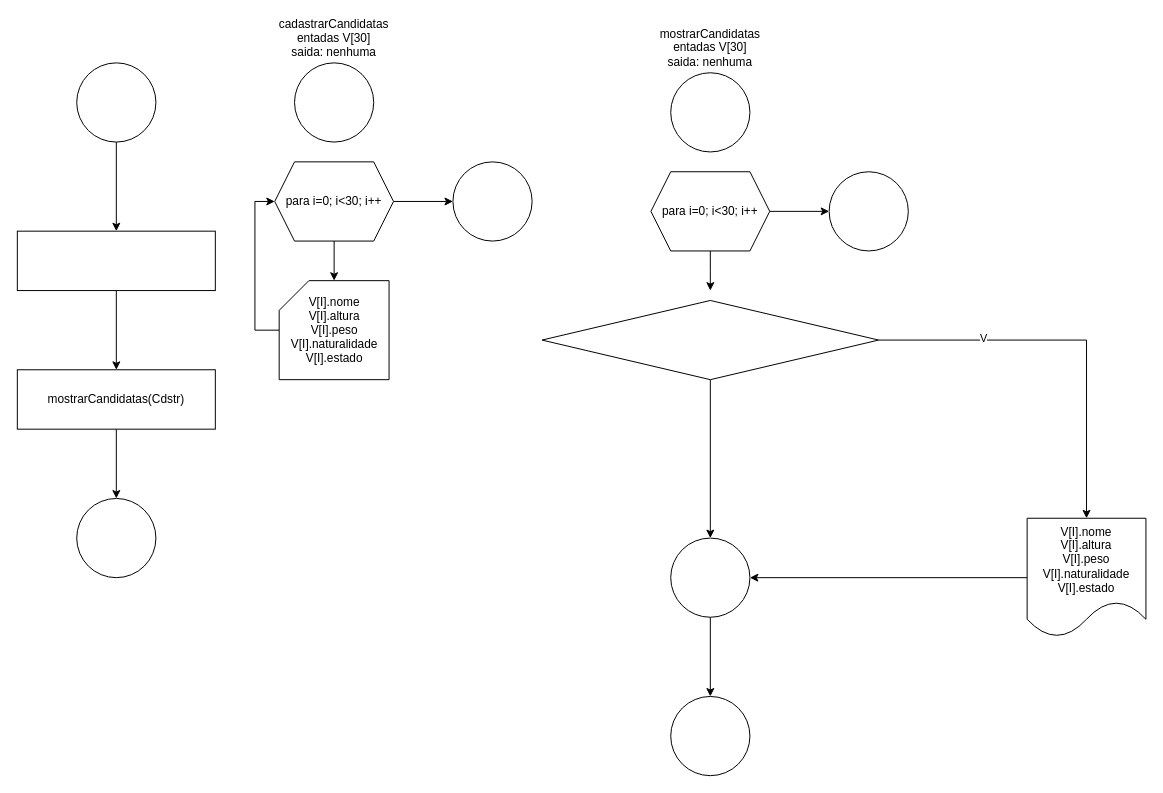
The diagram is 1163 pixels wide and 793 high, and some of its shapes have lost their labels. The shapes that lost their labels are listed below. From the top down, each one's box as (x1, y1, x2, y2) in pixels, then its label:
(16, 230, 215, 291): cadastrarCandidatas(Cdstr)
(541, 299, 879, 380): V[i].altura >= 1,85 && V.[i].estado == "SP
